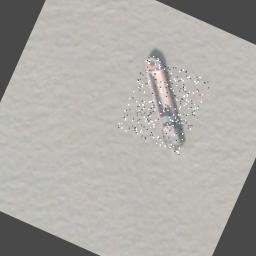boat: (115, 54, 211, 155)
